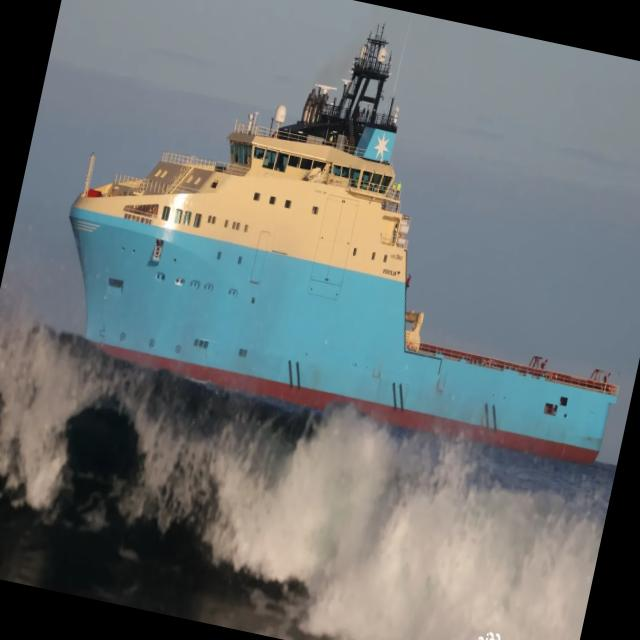Offshore: (70, 26, 618, 463)
